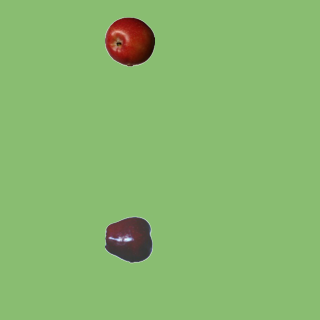Apple Braeburn: (104, 16, 154, 66)
Apple Red Delicious: (104, 214, 154, 264)
